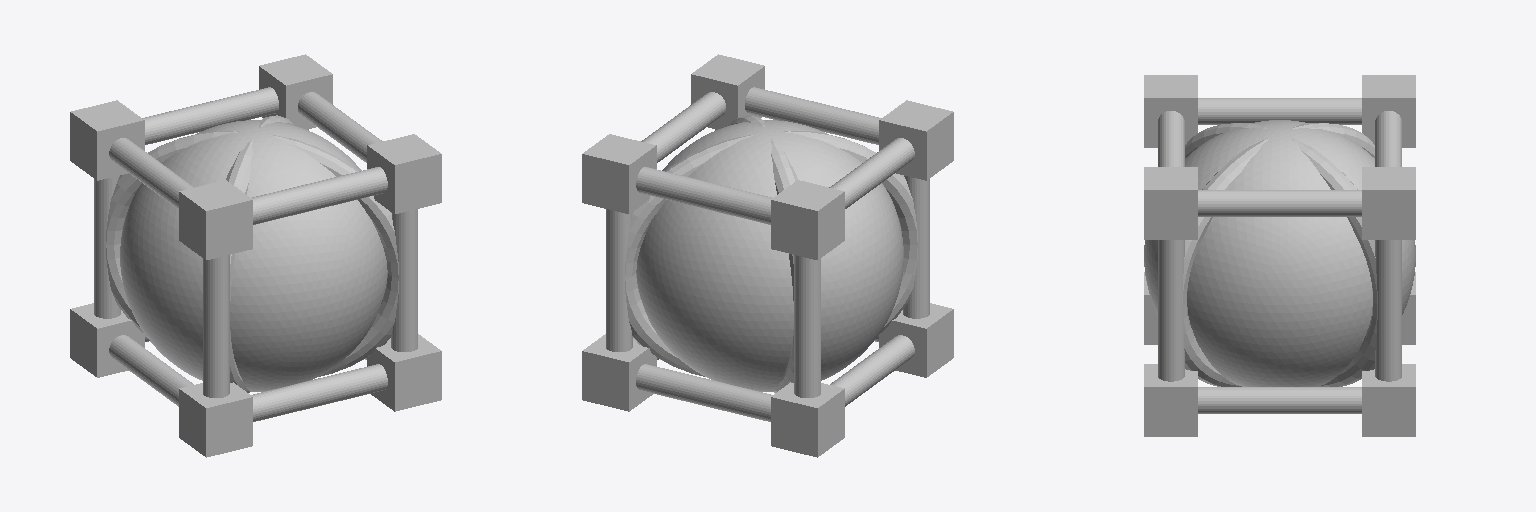
The model's file is BF_Kompression_tank.obj.
3 views of the same model, side by side, from view 1: azimuth 30°, elevation 25°; view 2: azimuth 150°, elevation 25°; view 3: azimuth 270°, elevation 25° (orthographic).
Visible parts, largest first — view 1: Icosphere_Icosphere.001; view 2: Icosphere_Icosphere.001; view 3: Icosphere_Icosphere.001.
Boxes of the visible parts, x1=… form: Icosphere_Icosphere.001: x1=70, y1=54, x2=441, y2=457; Icosphere_Icosphere.001: x1=582, y1=54, x2=953, y2=457; Icosphere_Icosphere.001: x1=1144, y1=75, x2=1415, y2=436.
Bounding box in the file's own units: 5 × 5 × 5.